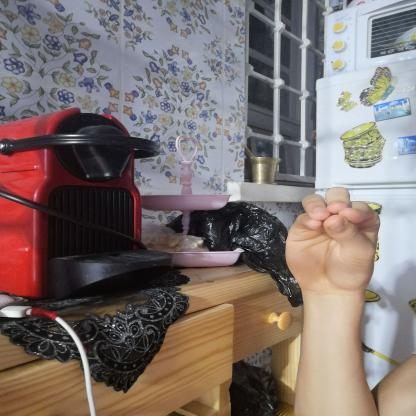HA: (266, 175, 398, 305)
